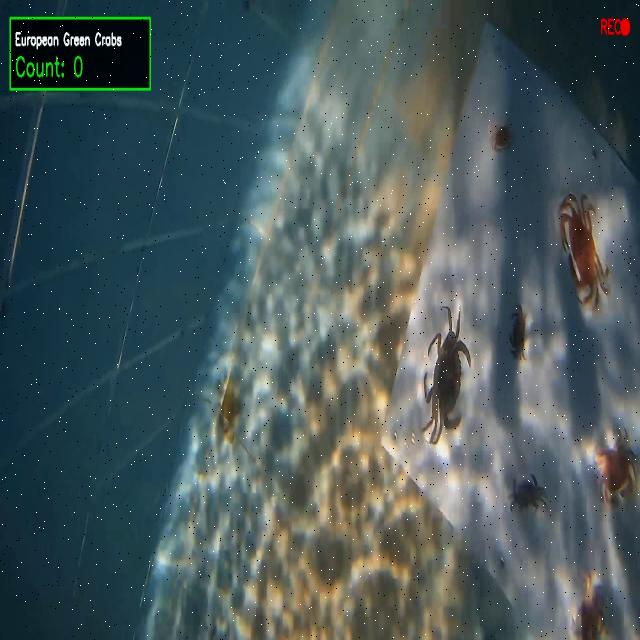European_Green_Crab: (409, 294, 485, 464), (508, 471, 552, 523)
